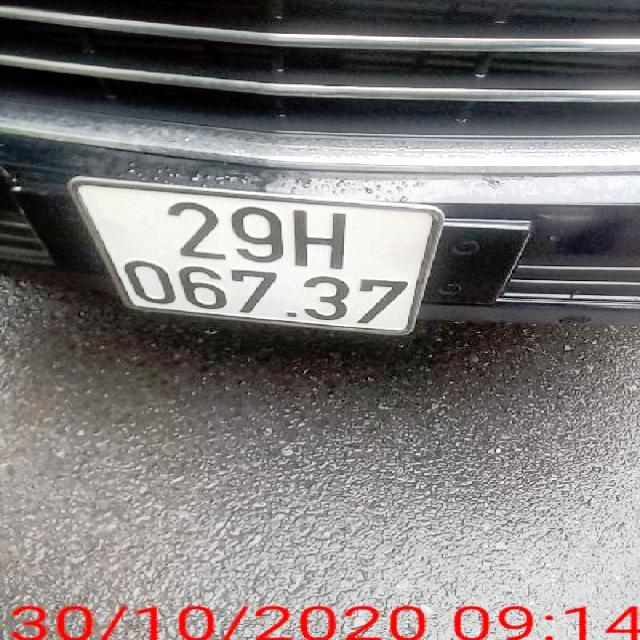license_plate: (75, 180, 441, 334)
